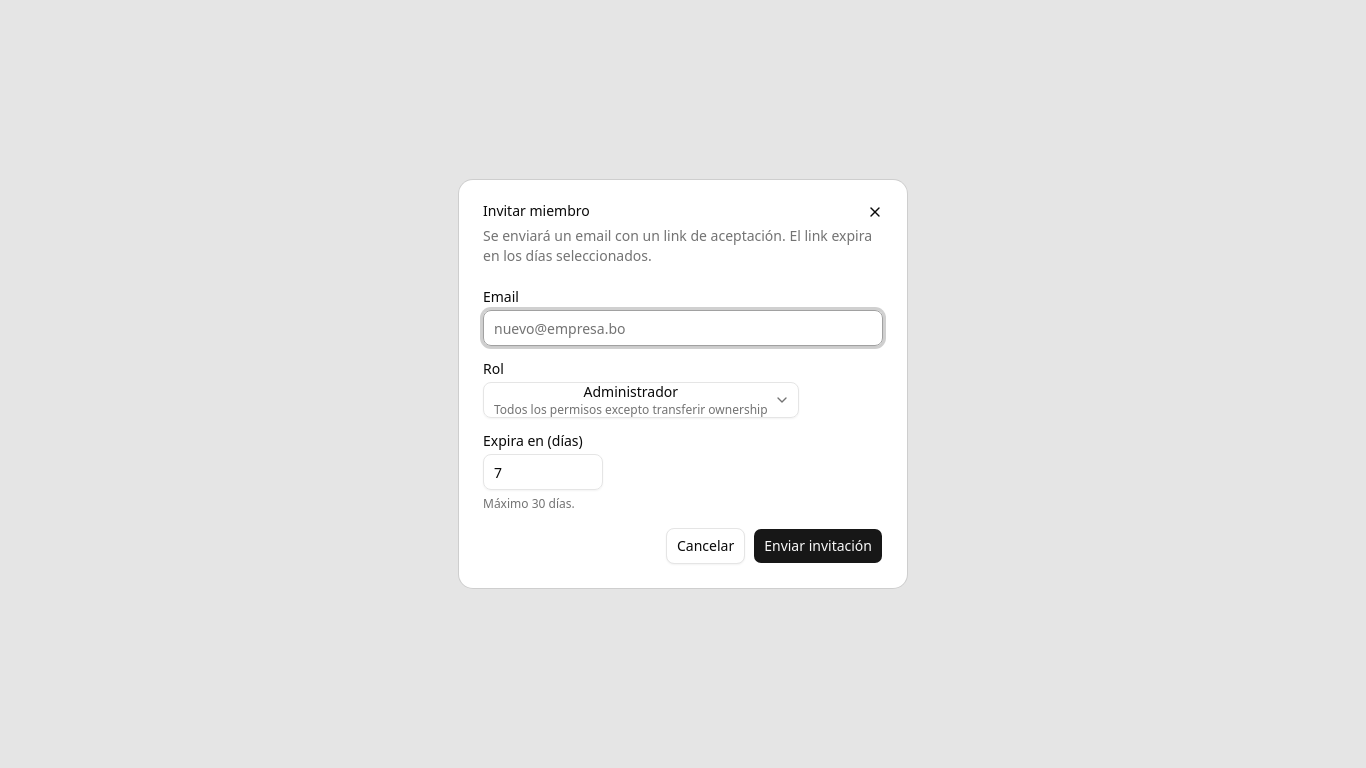
Scenario: InviteMemberDialog › con hook devolviendo roles custom — muestra el grupo Personalizados con Contador
The width and height of the screenshot is (1366, 768).
Click the dropdown at {"x": 641, "y": 400}, box [483,382,799,418]
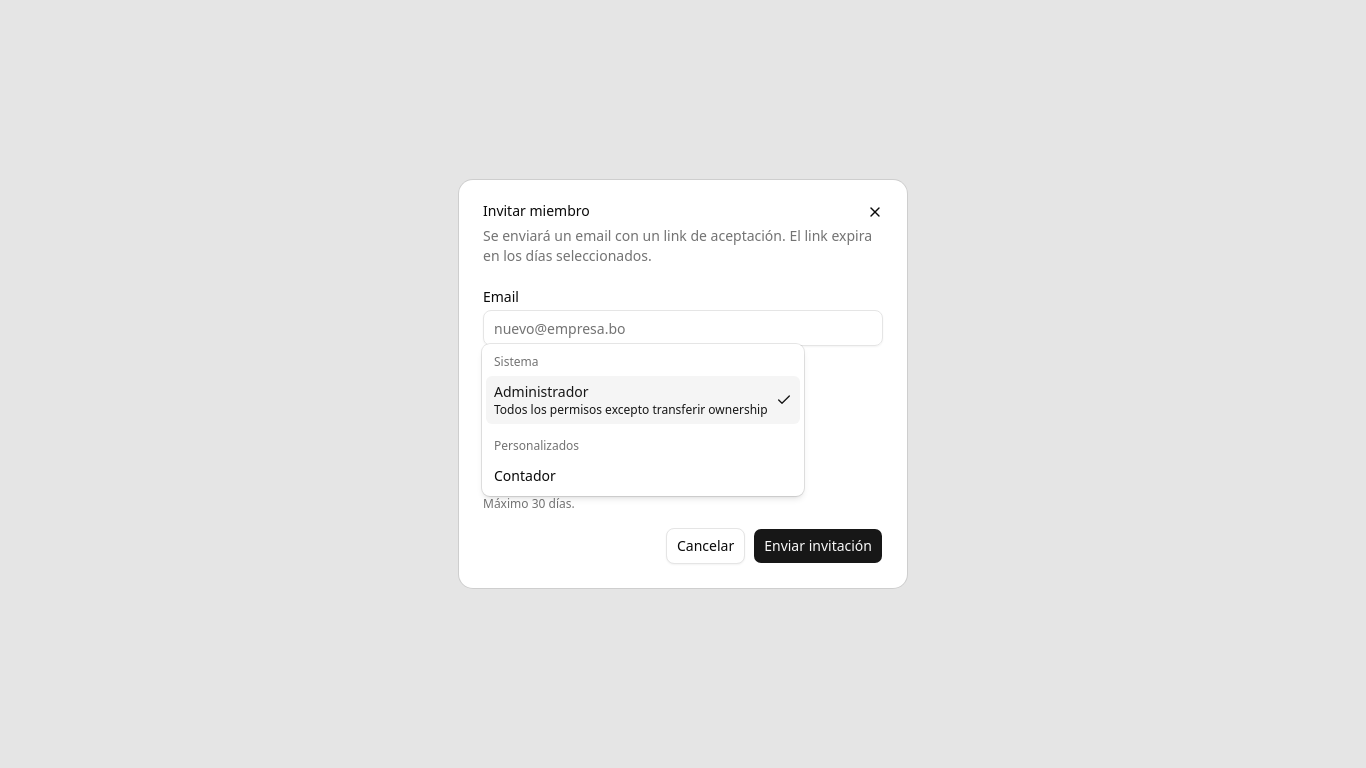
Result: the text "Personalizados" is shown at [494,437,579,454]
Result: the option "Contador" is shown at [494,466,556,485]
